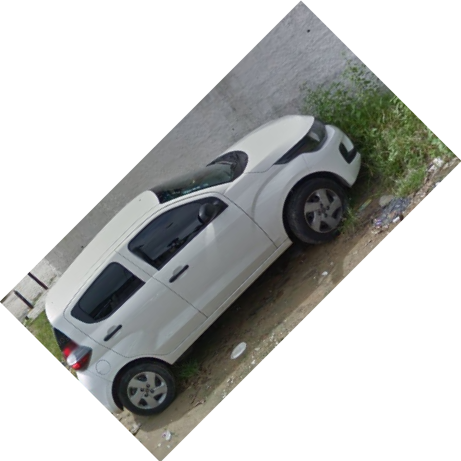car: (44, 113, 363, 416)
